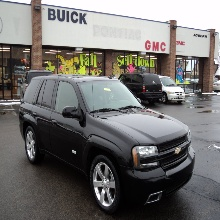no damage: (18, 74, 196, 213)
